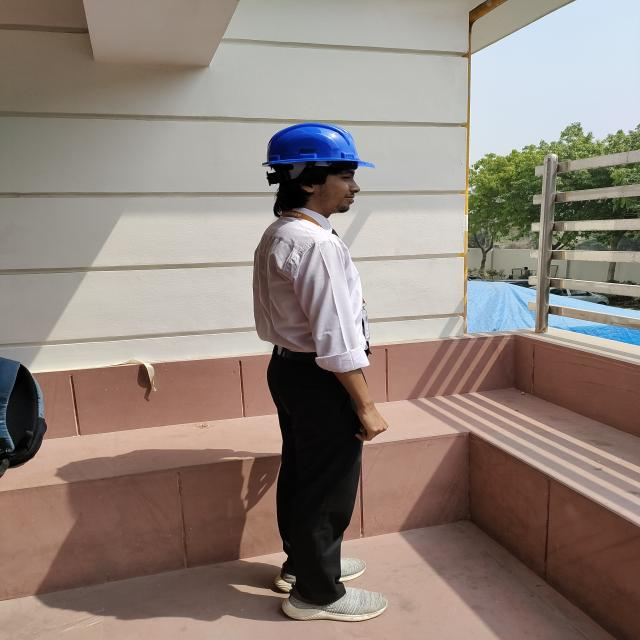no jacket: (250, 124, 376, 622)
